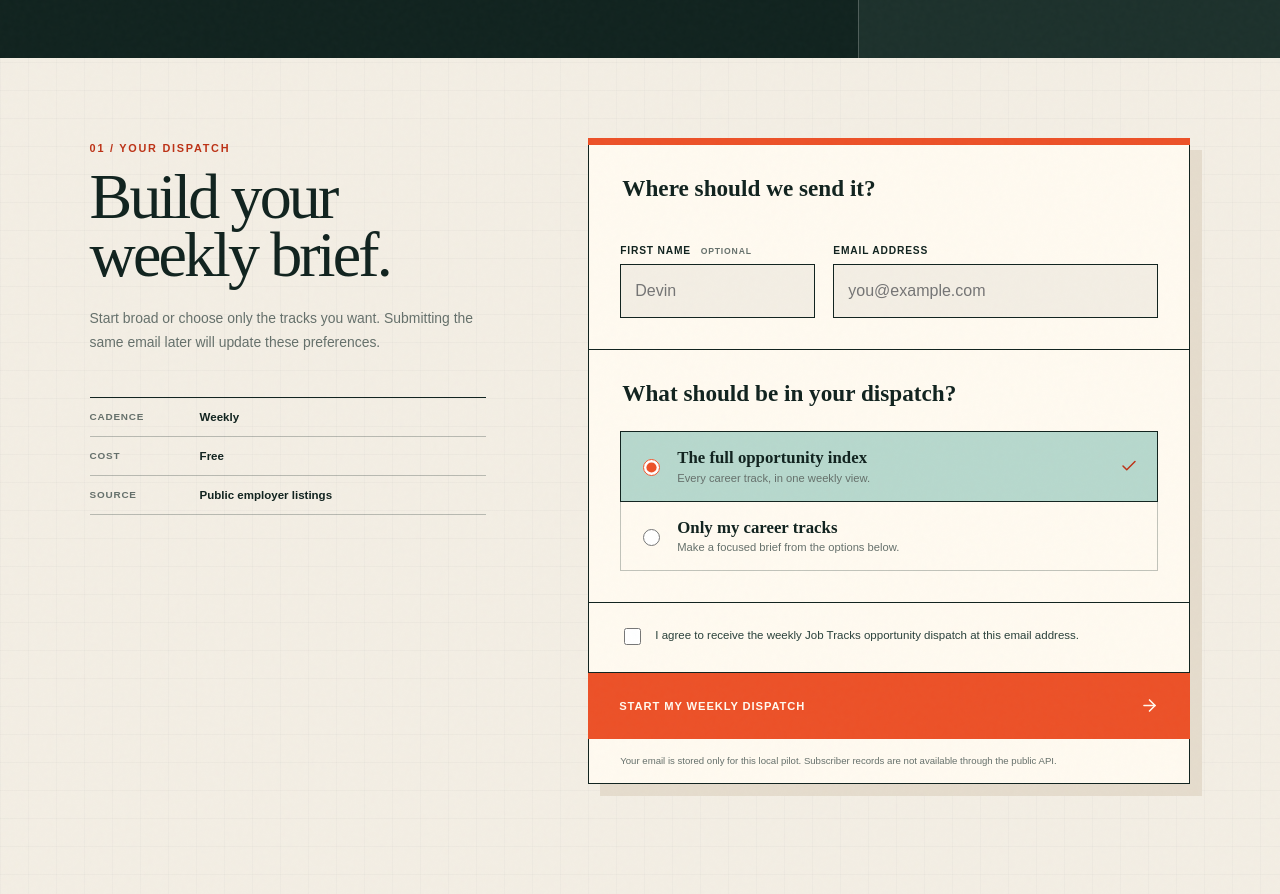
Scenario: NewsletterPage › requires at least one track when a focused brief is selected
The image size is (1280, 894).
(page scrolled)
Click the radio button labelled "Only my career tracks".
click(652, 537)  # box [643,529,660,546]
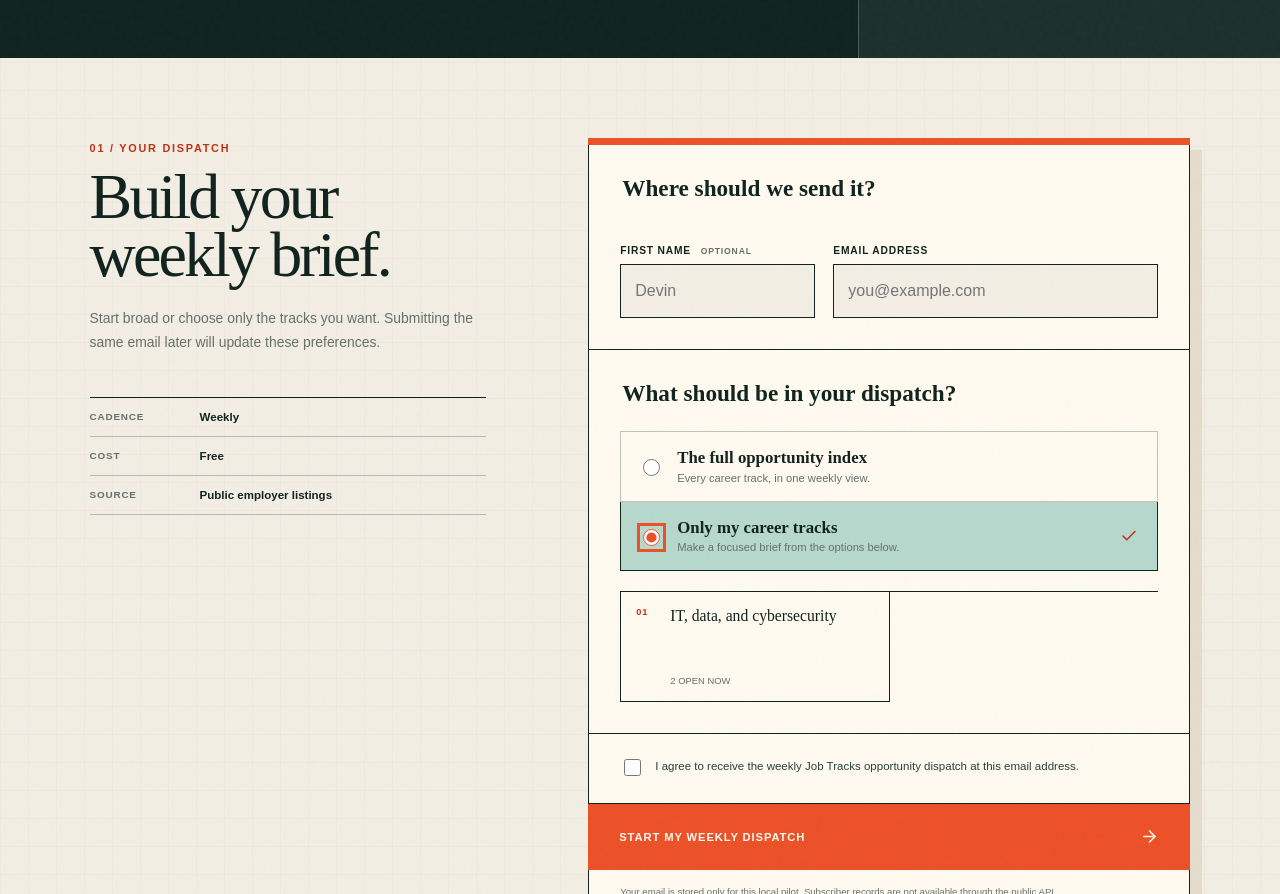
Click the button "Start my weekly dispatch".
click(712, 837)  # box [588,804,1190,870]
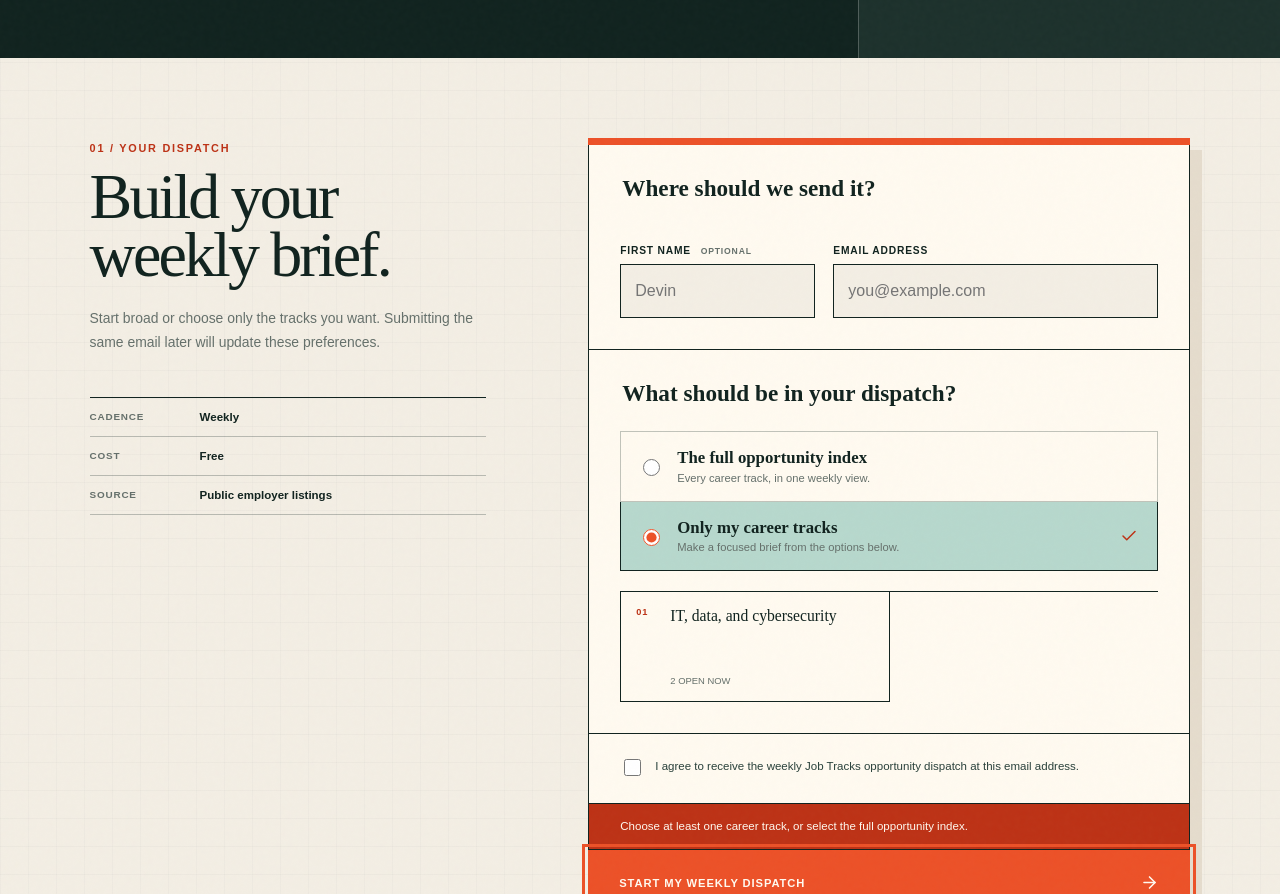
Expected: the message shows "Choose at least one career track", [620,820,968,832]
